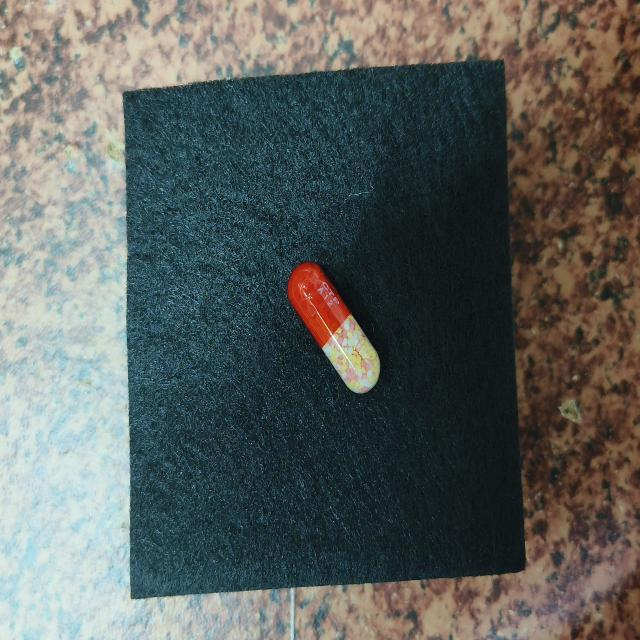Intact Capsule: (288, 262, 381, 393)
